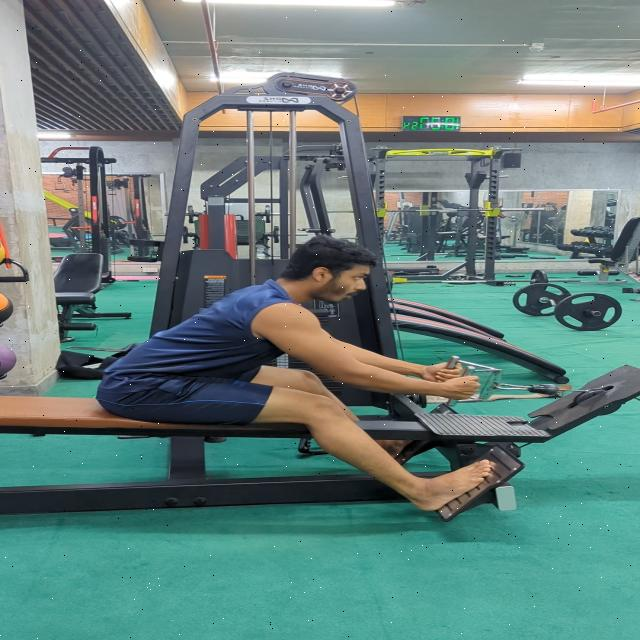Normal_RowingMachineExercise: (97, 237, 494, 514)
